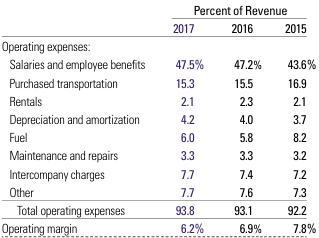table: (0, 1, 315, 235)
table column: (0, 1, 158, 235), (158, 1, 216, 235), (216, 1, 272, 235), (272, 1, 315, 235)
table column header: (0, 1, 315, 36)
table projected row header: (0, 36, 315, 54)
table row: (0, 72, 315, 91), (0, 181, 315, 200), (0, 18, 315, 36), (0, 36, 315, 54), (0, 54, 315, 72), (0, 91, 315, 109), (0, 109, 315, 127), (0, 127, 315, 145), (0, 145, 315, 163), (0, 163, 315, 181), (0, 200, 315, 218), (0, 1, 315, 18), (0, 218, 315, 235)
table spanning cell: (158, 1, 315, 18)
